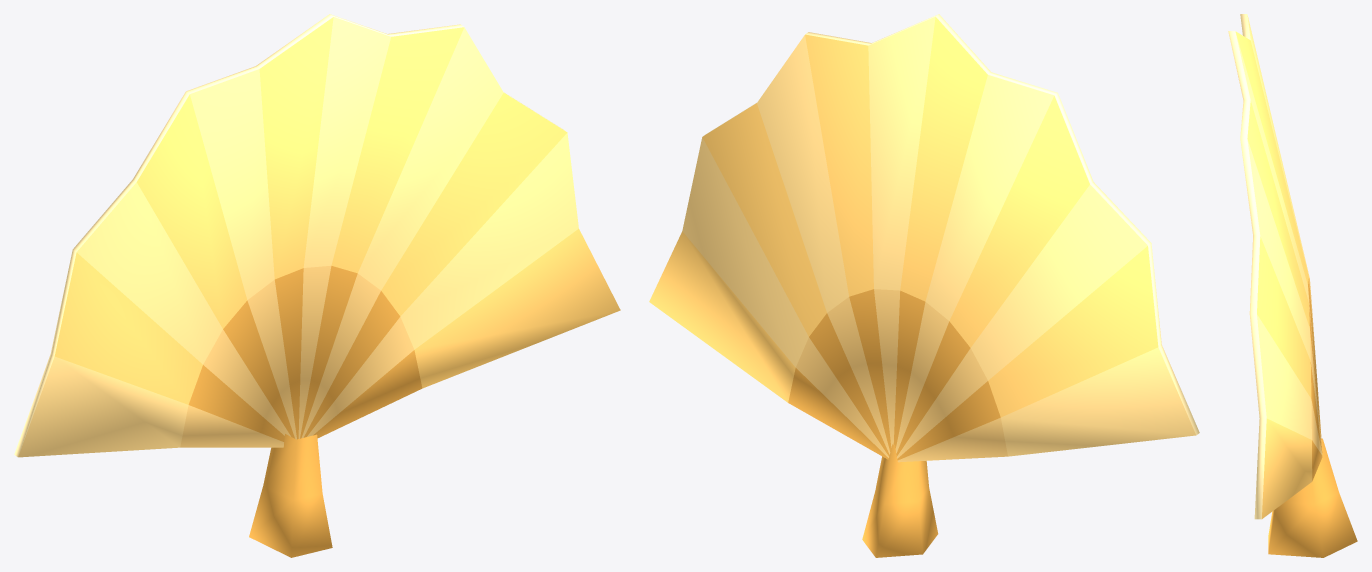
File: coral-b.glb
3 views of the same model, side by side, from view 1: azimuth 30°, elevation 25°; view 2: azimuth 150°, elevation 25°; view 3: azimuth 270°, elevation 25° (orthographic). The views are drawn at different scales.
Parts seen in each view (by area): view 1: coral-b; view 2: coral-b; view 3: coral-b.
Boxes of the visible parts, x1,y1,x2,y2 form: coral-b: (14, 14, 620, 557); coral-b: (649, 14, 1199, 557); coral-b: (1228, 14, 1357, 557).
Size of the model in its own units: 4 by 3.5 by 0.8.
